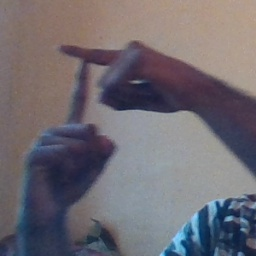T: (46, 28, 138, 153)
